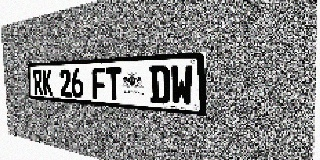2: (59, 69, 72, 97)
6: (71, 68, 84, 98)
D: (150, 65, 170, 104)
F: (92, 68, 106, 100)
K: (42, 69, 53, 96)
R: (33, 70, 43, 95)
T: (106, 67, 122, 101)
W: (170, 65, 193, 106)
